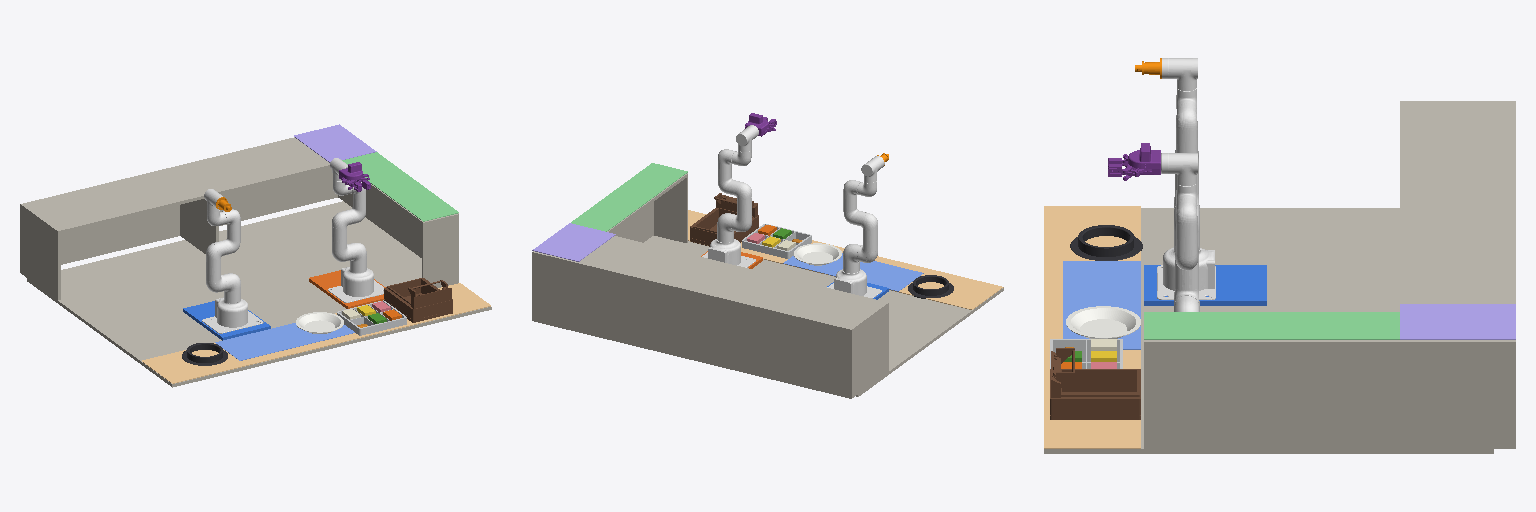
The robot description file, URDF, robot "kitchen_table":
<robot name="kitchen_table">
  <link name="world" />

  
  <link name="robot1_mount" />
  <joint name="robot1_mount_joint" type="fixed"><parent link="world" /><child link="robot1_mount" /><origin xyz="0.773 0.265 0.01" rpy="0 0 -1.5708" /></joint>
  
  <link name="robot2_mount" tool="none" />
  <joint name="robot2_mount_joint" type="fixed"><parent link="world" /><child link="robot2_mount" /><origin xyz="0.354 0.265 0.01" rpy="0 0 -1.5708" /></joint>

  
  <link name="pedestal_a"><visual><geometry><box size="0.23 0.16 0.01" /></geometry><material name="pedestal_a"><color rgba="0.3 0.55 0.95 1" /></material></visual><collision><geometry><box size="0.23 0.16 0.01" /></geometry></collision></link>
  <joint name="pedestal_a_joint" type="fixed"><parent link="robot2_mount" /><child link="pedestal_a" /><origin xyz="-0.035 0 -0.005" rpy="0 0 0" /></joint>
  <link name="pedestal_b"><visual><geometry><box size="0.23 0.16 0.01" /></geometry><material name="pedestal_b"><color rgba="0.95 0.5 0.2 1" /></material></visual><collision><geometry><box size="0.23 0.16 0.01" /></geometry></collision></link>
  <joint name="pedestal_b_joint" type="fixed"><parent link="robot1_mount" /><child link="pedestal_b" /><origin xyz="-0.035 0 -0.005" rpy="0 0 0" /></joint>

  <link name="table"><visual><geometry><box size="1.063 0.837 0.01" /></geometry><material name="table"><color rgba="0.8 0.78 0.74 1" /></material></visual><collision><geometry><box size="1.063 0.837 0.01" /></geometry></collision></link>
  <joint name="table_joint" type="fixed"><parent link="world" /><child link="table" /><origin xyz="0.5315 0.4185 -0.005" rpy="0 0 0" /></joint>
  <link name="shelf"><visual><geometry><box size="1.063 0.215 0.01" /></geometry><material name="shelf"><color rgba="0.8 0.78 0.74 1" /></material></visual><collision><geometry><box size="1.063 0.215 0.01" /></geometry></collision></link>
  <joint name="shelf_joint" type="fixed"><parent link="world" /><child link="shelf" /><origin xyz="0.5315 0.7695 0.215" rpy="0 0 0" /></joint>
  <link name="shelf_side_l"><visual><geometry><box size="0.01 0.215 0.21" /></geometry><material name="shelf_side_l"><color rgba="0.8 0.78 0.74 1" /></material></visual><collision><geometry><box size="0.01 0.215 0.21" /></geometry></collision></link>
  <joint name="shelf_side_l_joint" type="fixed"><parent link="world" /><child link="shelf_side_l" /><origin xyz="0.005 0.7695 0.105" rpy="0 0 0" /></joint>
  <link name="shelf_side_r"><visual><geometry><box size="0.01 0.215 0.21" /></geometry><material name="shelf_side_r"><color rgba="0.8 0.78 0.74 1" /></material></visual><collision><geometry><box size="0.01 0.215 0.21" /></geometry></collision></link>
  <joint name="shelf_side_r_joint" type="fixed"><parent link="world" /><child link="shelf_side_r" /><origin xyz="1.058 0.7695 0.105" rpy="0 0 0" /></joint>
  <link name="shelf_mid"><visual><geometry><box size="0.01 0.205 0.21" /></geometry><material name="shelf_mid"><color rgba="0.8 0.78 0.74 1" /></material></visual><collision><geometry><box size="0.01 0.205 0.21" /></geometry></collision></link>
  <joint name="shelf_mid_joint" type="fixed"><parent link="world" /><child link="shelf_mid" /><origin xyz="0.5315 0.7645 0.105" rpy="0 0 0" /></joint>
  <link name="shelf_back"><visual><geometry><box size="1.043 0.01 0.21" /></geometry><material name="shelf_back"><color rgba="0.8 0.78 0.74 1" /></material></visual><collision><geometry><box size="1.043 0.01 0.21" /></geometry></collision></link>
  <joint name="shelf_back_joint" type="fixed"><parent link="world" /><child link="shelf_back" /><origin xyz="0.5315 0.872 0.105" rpy="0 0 0" /></joint>
  <link name="dryer_top"><visual><geometry><box size="0.12 0.477 0.01" /></geometry><material name="dryer_top"><color rgba="0.8 0.78 0.74 1" /></material></visual><collision><geometry><box size="0.12 0.477 0.01" /></geometry></collision></link>
  <joint name="dryer_top_joint" type="fixed"><parent link="world" /><child link="dryer_top" /><origin xyz="1.003 0.4235 0.215" rpy="0 0 0" /></joint>
  <link name="dryer_side"><visual><geometry><box size="0.01 0.477 0.21" /></geometry><material name="dryer_side"><color rgba="0.8 0.78 0.74 1" /></material></visual><collision><geometry><box size="0.01 0.477 0.21" /></geometry></collision></link>
  <joint name="dryer_side_joint" type="fixed"><parent link="world" /><child link="dryer_side" /><origin xyz="1.058 0.4235 0.105" rpy="0 0 0" /></joint>
  <link name="dryer_front"><visual><geometry><box size="0.11 0.01 0.21" /></geometry><material name="dryer_front"><color rgba="0.8 0.78 0.74 1" /></material></visual><collision><geometry><box size="0.11 0.01 0.21" /></geometry></collision></link>
  <joint name="dryer_front_joint" type="fixed"><parent link="world" /><child link="dryer_front" /><origin xyz="0.998 0.19 0.105" rpy="0 0 0" /></joint>
  <link name="basket"><visual><geometry><mesh filename="meshes/frying_basket_hook.stl" scale="0.001 0.001 0.001" /></geometry><material name="basket"><color rgba="0.55 0.57 0.6 1" /></material></visual><collision><geometry><mesh filename="meshes/frying_basket_hook.stl" scale="0.001 0.001 0.001" /></geometry></collision></link>
  <joint name="basket_joint" type="fixed"><parent link="world" /><child link="basket" /><origin xyz="0.875 0.1065 0.0535" rpy="0 0 -1.5708" /></joint>
  <link name="prep"><visual><geometry><mesh filename="meshes/prep_bins_v2.stl" scale="0.001 0.001 0.001" /></geometry><material name="prep"><color rgba="0.86 0.87 0.88 1" /></material></visual><collision><geometry><mesh filename="meshes/prep_bins_v2.stl" scale="0.001 0.001 0.001" /></geometry></collision></link>
  <joint name="prep_joint" type="fixed"><parent link="world" /><child link="prep" /><origin xyz="0.71 0.0785 0" rpy="0 0 0" /></joint>
  <link name="ing_chicken"><visual><geometry><mesh filename="meshes/chicken_nugget_v2.stl" scale="0.001 0.001 0.001" /></geometry><material name="ing_chicken"><color rgba="0.85 0.55 0.2 1" /></material></visual><collision><geometry><mesh filename="meshes/chicken_nugget_v2.stl" scale="0.001 0.001 0.001" /></geometry></collision></link>
  <joint name="ing_chicken_joint" type="fixed"><parent link="prep" /><child link="ing_chicken" /><origin xyz="-0.05033 -0.032 0.0025" rpy="0 0 0" /></joint>
  <link name="ing_green"><visual><geometry><box size="0.034 0.048 0.027" /></geometry><material name="ing_green"><color rgba="0.35 0.65 0.25 1" /></material></visual><collision><geometry><box size="0.034 0.048 0.027" /></geometry></collision></link>
  <joint name="ing_green_joint" type="fixed"><parent link="prep" /><child link="ing_green" /><origin xyz="0 -0.032 0.016" rpy="0 0 0" /></joint>
  <link name="ing_carrot"><visual><geometry><box size="0.034 0.048 0.027" /></geometry><material name="ing_carrot"><color rgba="0.95 0.5 0.15 1" /></material></visual><collision><geometry><box size="0.034 0.048 0.027" /></geometry></collision></link>
  <joint name="ing_carrot_joint" type="fixed"><parent link="prep" /><child link="ing_carrot" /><origin xyz="0.05033 -0.032 0.016" rpy="0 0 0" /></joint>
  <link name="ing_onion"><visual><geometry><box size="0.034 0.048 0.027" /></geometry><material name="ing_onion"><color rgba="0.96 0.94 0.85 1" /></material></visual><collision><geometry><box size="0.034 0.048 0.027" /></geometry></collision></link>
  <joint name="ing_onion_joint" type="fixed"><parent link="prep" /><child link="ing_onion" /><origin xyz="-0.05033 0.032 0.016" rpy="0 0 0" /></joint>
  <link name="ing_egg"><visual><geometry><box size="0.034 0.048 0.027" /></geometry><material name="ing_egg"><color rgba="0.98 0.85 0.25 1" /></material></visual><collision><geometry><box size="0.034 0.048 0.027" /></geometry></collision></link>
  <joint name="ing_egg_joint" type="fixed"><parent link="prep" /><child link="ing_egg" /><origin xyz="0 0.032 0.016" rpy="0 0 0" /></joint>
  <link name="ing_ham"><visual><geometry><box size="0.034 0.048 0.027" /></geometry><material name="ing_ham"><color rgba="0.92 0.55 0.6 1" /></material></visual><collision><geometry><box size="0.034 0.048 0.027" /></geometry></collision></link>
  <joint name="ing_ham_joint" type="fixed"><parent link="prep" /><child link="ing_ham" /><origin xyz="0.05033 0.032 0.016" rpy="0 0 0" /></joint>
  <link name="fryer"><visual><geometry><mesh filename="meshes/fryer_v4.stl" scale="0.001 0.001 0.001" /></geometry><material name="fryer"><color rgba="0.48 0.35 0.27 1" /></material></visual><collision><geometry><mesh filename="meshes/fryer_v4.stl" scale="0.001 0.001 0.001" /></geometry></collision></link>
  <joint name="fryer_joint" type="fixed"><parent link="world" /><child link="fryer" /><origin xyz="0.875 0.095 0" rpy="0 0 0" /></joint>
  <link name="burner"><visual><geometry><mesh filename="meshes/burner_wok_ring_id88.stl" scale="0.001 0.001 0.001" /></geometry><material name="burner"><color rgba="0.25 0.25 0.27 1" /></material></visual><collision><geometry><mesh filename="meshes/burner_wok_ring_id88.stl" scale="0.001 0.001 0.001" /></geometry></collision></link>
  <joint name="burner_joint" type="fixed"><parent link="world" /><child link="burner" /><origin xyz="0.175 0.115 0" rpy="0 0 0" /></joint>
  <link name="zone_cooking"><visual><geometry><box size="1.063 0.18 0.002" /></geometry><material name="zone_cooking"><color rgba="1 0.85 0.65 0.45" /></material></visual><collision><geometry><box size="1.063 0.18 0.002" /></geometry></collision></link>
  <joint name="zone_cooking_joint" type="fixed"><parent link="world" /><child link="zone_cooking" /><origin xyz="0.5315 0.09 0.002" rpy="0 0 0" /></joint>
  <link name="zone_plates_ingredients"><visual><geometry><box size="0.386 0.145 0.002" /></geometry><material name="zone_plates_ingredients"><color rgba="0.55 0.7 1 0.7" /></material></visual><collision><geometry><box size="0.386 0.157 0.002" /></geometry></collision></link>
  <joint name="zone_plates_ingredients_joint" type="fixed"><parent link="world" /><child link="zone_plates_ingredients" /><origin xyz="0.438 0.1075 0.003" rpy="0 0 0" /></joint>
  <link name="zone_drying"><visual><geometry><box size="0.12 0.477 0.002" /></geometry><material name="zone_drying"><color rgba="0.6 0.9 0.65 0.7" /></material></visual><collision><geometry><box size="0.12 0.477 0.002" /></geometry></collision></link>
  <joint name="zone_drying_joint" type="fixed"><parent link="world" /><child link="zone_drying" /><origin xyz="1.003 0.4235 0.224" rpy="0 0 0" /></joint>
  <link name="zone_dish_return"><visual><geometry><box size="0.154 0.215 0.002" /></geometry><material name="zone_dish_return"><color rgba="0.75 0.7 1 0.8" /></material></visual><collision><geometry><box size="0.154 0.215 0.002" /></geometry></collision></link>
  <joint name="zone_dish_return_joint" type="fixed"><parent link="world" /><child link="zone_dish_return" /><origin xyz="0.986 0.7695 0.225" rpy="0 0 0" /></joint>
  <link name="plate"><visual><geometry><mesh filename="meshes/chicken_plate.stl" scale="0.001 0.001 0.001" /></geometry><material name="plate"><color rgba="0.97 0.97 0.95 1" /></material></visual><collision><geometry><mesh filename="meshes/chicken_plate.stl" scale="0.001 0.001 0.001" /></geometry></collision></link>
  <joint name="plate_joint" type="fixed"><parent link="world" /><child link="plate" /><origin xyz="0.555 0.11 0.004" rpy="0 0 0" /></joint>
  <link name="wok"><visual><geometry><mesh filename="meshes/wok_round_d32_ringfix.stl" scale="0.001 0.001 0.001" /></geometry><material name="wok"><color rgba="0.3 0.45 0.65 1" /></material></visual></link>
  <joint name="wok_joint" type="fixed"><parent link="robot2_joint6_flange" /><child link="wok" /><origin xyz="-0.082 0 0.069" rpy="3.14159265 0 0" /></joint>
  <link name="robot2_wok_tool"><visual><geometry><mesh filename="meshes/robot2_wrist_plug_tool_use.stl" scale="0.001 0.001 0.001" /></geometry><material name="wok_tool"><color rgba="1 0.6 0.1 1" /></material></visual></link>
  <joint name="robot2_wok_tool_joint" type="fixed"><parent link="robot2_joint6_flange" /><child link="robot2_wok_tool" /></joint>
<link name="robot1_g_base"><visual><origin xyz="0.000000 0.000000 0.000000" rpy="0.000000 -0.000000 0.000000" /><geometry><mesh filename="meshes/link_g_base.stl" /></geometry><material name="robot1_robot"><color rgba="0.930 0.930 0.930 1.000" /></material></visual></link><link name="robot1_joint1"><visual><origin xyz="0.000000 0.000000 0.000000" rpy="0.000000 -0.000000 0.000000" /><geometry><mesh filename="meshes/link_joint1.stl" /></geometry><material name="robot1_robot"><color rgba="0.930 0.930 0.930 1.000" /></material></visual></link><link name="robot1_joint2"><visual><origin xyz="0.000000 0.000000 0.000000" rpy="0.000000 -0.000000 0.000000" /><geometry><mesh filename="meshes/link_joint2.stl" /></geometry><material name="robot1_robot"><color rgba="0.930 0.930 0.930 1.000" /></material></visual></link><link name="robot1_joint3"><visual><origin xyz="0.000000 0.000000 0.000000" rpy="0.000000 -0.000000 0.000000" /><geometry><mesh filename="meshes/link_joint3.stl" /></geometry><material name="robot1_robot"><color rgba="0.930 0.930 0.930 1.000" /></material></visual></link><link name="robot1_joint4"><visual><origin xyz="0.000000 0.000000 0.000000" rpy="0.000000 -0.000000 0.000000" /><geometry><mesh filename="meshes/link_joint4.stl" /></geometry><material name="robot1_robot"><color rgba="0.930 0.930 0.930 1.000" /></material></visual></link><link name="robot1_joint5"><visual><origin xyz="0.000000 0.000000 0.000000" rpy="0.000000 -0.000000 0.000000" /><geometry><mesh filename="meshes/link_joint5.stl" /></geometry><material name="robot1_robot"><color rgba="0.930 0.930 0.930 1.000" /></material></visual></link><link name="robot1_joint6"><visual><origin xyz="0.000000 0.000000 0.000000" rpy="0.000000 -0.000000 0.000000" /><geometry><mesh filename="meshes/link_joint6.stl" /></geometry><material name="robot1_robot"><color rgba="0.930 0.930 0.930 1.000" /></material></visual></link><link name="robot1_joint6_flange"><visual><origin xyz="0.000000 0.000000 0.000000" rpy="0.000000 -0.000000 0.000000" /><geometry><mesh filename="meshes/link_joint6_flange.stl" /></geometry><material name="robot1_robot"><color rgba="0.930 0.930 0.930 1.000" /></material></visual></link><link name="robot1_gripper"><visual><origin xyz="0.000000 0.000000 0.000000" rpy="0.000000 -0.000000 0.000000" /><geometry><mesh filename="meshes/gripper_closed.stl" /></geometry><material name="robot1_gripper"><color rgba="0.550 0.300 0.650 1.000" /></material></visual></link><joint name="robot1_g_base_to_joint1" type="fixed"><parent link="robot1_g_base" /><child link="robot1_joint1" /><origin xyz="0 0 0" rpy="0 0 0" /><axis xyz="0 0 0" /><limit lower="-3.14" upper="3.14159" effort="1000.0" velocity="0" /></joint><joint name="robot1_joint2_to_joint1" type="revolute"><parent link="robot1_joint1" /><child link="robot1_joint2" /><origin xyz="0 0 0.13156" rpy="0 0 0" /><axis xyz="0 0 1" /><limit lower="-2.9321" upper="2.9321" effort="1000.0" velocity="0" /></joint><joint name="robot1_joint3_to_joint2" type="revolute"><parent link="robot1_joint2" /><child link="robot1_joint3" /><origin xyz="0 0  0" rpy="0 1.5708 -1.5708" /><axis xyz="0 0 1" /><limit lower="-2.4434" upper="2.4434" effort="1000.0" velocity="0" /></joint><joint name="robot1_joint4_to_joint3" type="revolute"><parent link="robot1_joint3" /><child link="robot1_joint4" /><origin xyz="  -0.1104 0 0   " rpy="0 0 0" /><axis xyz=" 0 0 1" /><limit lower="-2.6179" upper="2.6179" effort="1000.0" velocity="0" /></joint><joint name="robot1_joint5_to_joint4" type="revolute"><parent link="robot1_joint4" /><child link="robot1_joint5" /><origin xyz="-0.096 0 0.06462" rpy="0 0 -1.5708" /><axis xyz=" 0 0 1" /><limit lower="-2.6179" upper="2.6179" effort="1000.0" velocity="0" /></joint><joint name="robot1_joint6_to_joint5" type="revolute"><parent link="robot1_joint5" /><child link="robot1_joint6" /><origin xyz="0 -0.07318 0" rpy="1.5708 -1.5708 0" /><axis xyz="0 0 1" /><limit lower="-2.7052" upper="2.7925" effort="1000.0" velocity="0" /></joint><joint name="robot1_joint6output_to_joint6" type="revolute"><parent link="robot1_joint6" /><child link="robot1_joint6_flange" /><origin xyz="0 0.0456 0" rpy="-1.5708 0 0" /><axis xyz="0 0 1" /><limit lower="-3.14159" upper="3.14159" effort="1000.0" velocity="0" /></joint><joint name="robot1_flange_to_gripper" type="fixed"><parent link="robot1_joint6_flange" /><child link="robot1_gripper" /><origin xyz="0.000000 0.000000 0.000000" rpy="0.000000 -0.000000 0.000000" /></joint><joint name="robot1_mount_to_base" type="fixed"><parent link="robot1_mount" /><child link="robot1_g_base" /></joint><link name="robot2_g_base"><visual><origin xyz="0.000000 0.000000 0.000000" rpy="0.000000 -0.000000 0.000000" /><geometry><mesh filename="meshes/link_g_base.stl" /></geometry><material name="robot2_robot"><color rgba="0.930 0.930 0.930 1.000" /></material></visual></link><link name="robot2_joint1"><visual><origin xyz="0.000000 0.000000 0.000000" rpy="0.000000 -0.000000 0.000000" /><geometry><mesh filename="meshes/link_joint1.stl" /></geometry><material name="robot2_robot"><color rgba="0.930 0.930 0.930 1.000" /></material></visual></link><link name="robot2_joint2"><visual><origin xyz="0.000000 0.000000 0.000000" rpy="0.000000 -0.000000 0.000000" /><geometry><mesh filename="meshes/link_joint2.stl" /></geometry><material name="robot2_robot"><color rgba="0.930 0.930 0.930 1.000" /></material></visual></link><link name="robot2_joint3"><visual><origin xyz="0.000000 0.000000 0.000000" rpy="0.000000 -0.000000 0.000000" /><geometry><mesh filename="meshes/link_joint3.stl" /></geometry><material name="robot2_robot"><color rgba="0.930 0.930 0.930 1.000" /></material></visual></link><link name="robot2_joint4"><visual><origin xyz="0.000000 0.000000 0.000000" rpy="0.000000 -0.000000 0.000000" /><geometry><mesh filename="meshes/link_joint4.stl" /></geometry><material name="robot2_robot"><color rgba="0.930 0.930 0.930 1.000" /></material></visual></link><link name="robot2_joint5"><visual><origin xyz="0.000000 0.000000 0.000000" rpy="0.000000 -0.000000 0.000000" /><geometry><mesh filename="meshes/link_joint5.stl" /></geometry><material name="robot2_robot"><color rgba="0.930 0.930 0.930 1.000" /></material></visual></link><link name="robot2_joint6"><visual><origin xyz="0.000000 0.000000 0.000000" rpy="0.000000 -0.000000 0.000000" /><geometry><mesh filename="meshes/link_joint6.stl" /></geometry><material name="robot2_robot"><color rgba="0.930 0.930 0.930 1.000" /></material></visual></link><link name="robot2_joint6_flange"><visual><origin xyz="0.000000 0.000000 0.000000" rpy="0.000000 -0.000000 0.000000" /><geometry><mesh filename="meshes/link_joint6_flange.stl" /></geometry><material name="robot2_robot"><color rgba="0.930 0.930 0.930 1.000" /></material></visual></link><joint name="robot2_g_base_to_joint1" type="fixed"><parent link="robot2_g_base" /><child link="robot2_joint1" /><origin xyz="0 0 0" rpy="0 0 0" /><axis xyz="0 0 0" /><limit lower="-3.14" upper="3.14159" effort="1000.0" velocity="0" /></joint><joint name="robot2_joint2_to_joint1" type="revolute"><parent link="robot2_joint1" /><child link="robot2_joint2" /><origin xyz="0 0 0.13156" rpy="0 0 0" /><axis xyz="0 0 1" /><limit lower="-2.9321" upper="2.9321" effort="1000.0" velocity="0" /></joint><joint name="robot2_joint3_to_joint2" type="revolute"><parent link="robot2_joint2" /><child link="robot2_joint3" /><origin xyz="0 0  0" rpy="0 1.5708 -1.5708" /><axis xyz="0 0 1" /><limit lower="-2.4434" upper="2.4434" effort="1000.0" velocity="0" /></joint><joint name="robot2_joint4_to_joint3" type="revolute"><parent link="robot2_joint3" /><child link="robot2_joint4" /><origin xyz="  -0.1104 0 0   " rpy="0 0 0" /><axis xyz=" 0 0 1" /><limit lower="-2.6179" upper="2.6179" effort="1000.0" velocity="0" /></joint><joint name="robot2_joint5_to_joint4" type="revolute"><parent link="robot2_joint4" /><child link="robot2_joint5" /><origin xyz="-0.096 0 0.06462" rpy="0 0 -1.5708" /><axis xyz=" 0 0 1" /><limit lower="-2.6179" upper="2.6179" effort="1000.0" velocity="0" /></joint><joint name="robot2_joint6_to_joint5" type="revolute"><parent link="robot2_joint5" /><child link="robot2_joint6" /><origin xyz="0 -0.07318 0" rpy="1.5708 -1.5708 0" /><axis xyz="0 0 1" /><limit lower="-2.7052" upper="2.7925" effort="1000.0" velocity="0" /></joint><joint name="robot2_joint6output_to_joint6" type="revolute"><parent link="robot2_joint6" /><child link="robot2_joint6_flange" /><origin xyz="0 0.0456 0" rpy="-1.5708 0 0" /><axis xyz="0 0 1" /><limit lower="-3.14159" upper="3.14159" effort="1000.0" velocity="0" /></joint><joint name="robot2_mount_to_base" type="fixed"><parent link="robot2_mount" /><child link="robot2_g_base" /></joint></robot>

--- Facts derived from the render (not from the file) ---
The picture shows the robot from 3 angles, left to right: view 1: azimuth 30°, elevation 25°; view 2: azimuth 150°, elevation 25°; view 3: azimuth 270°, elevation 25°; orthographic projection.
Robot: kitchen_table — 48 links, 47 joints (12 revolute, 35 fixed); root link world; default pose: all joints at 0.
Visible links, largest first — view 1: table, shelf, shelf_back, zone_cooking, zone_drying, shelf_side_l, zone_plates_ingredients, fryer, dryer_front, dryer_side, zone_dish_return, shelf_mid (+11 smaller); view 2: shelf_back, shelf, table, zone_drying, shelf_side_l, zone_cooking, zone_dish_return, dryer_front, zone_plates_ingredients, fryer, dryer_side, robot2_joint3 (+8 smaller); view 3: dryer_side, shelf, table, shelf_side_r, zone_cooking, zone_drying, fryer, zone_plates_ingredients, zone_dish_return, pedestal_a, plate, dryer_top (+10 smaller).
Boxes of the visible links, x1=… form: table: x1=27, y1=201, x2=491, y2=387; shelf: x1=20, y1=137, x2=329, y2=233; shelf_back: x1=61, y1=168, x2=337, y2=264; zone_cooking: x1=142, y1=283, x2=490, y2=383; zone_drying: x1=342, y1=152, x2=458, y2=221; shelf_side_l: x1=20, y1=207, x2=60, y2=299; zone_plates_ingredients: x1=215, y1=323, x2=354, y2=360; fryer: x1=384, y1=278, x2=452, y2=322; dryer_front: x1=422, y1=218, x2=455, y2=287; dryer_side: x1=374, y1=190, x2=458, y2=283; zone_dish_return: x1=294, y1=124, x2=376, y2=162; shelf_mid: x1=180, y1=199, x2=218, y2=253; shelf_back: x1=535, y1=256, x2=848, y2=397; shelf: x1=532, y1=236, x2=888, y2=332; table: x1=644, y1=236, x2=1003, y2=396; zone_drying: x1=571, y1=163, x2=687, y2=231; shelf_side_l: x1=849, y1=306, x2=888, y2=398; zone_cooking: x1=688, y1=210, x2=1003, y2=309; zone_dish_return: x1=532, y1=223, x2=615, y2=261; dryer_front: x1=654, y1=177, x2=687, y2=242; zone_plates_ingredients: x1=783, y1=253, x2=923, y2=291; fryer: x1=690, y1=193, x2=758, y2=246; dryer_side: x1=612, y1=202, x2=653, y2=242; robot2_joint3: x1=857, y1=211, x2=877, y2=262; dryer_side: x1=1144, y1=347, x2=1399, y2=448; shelf: x1=1400, y1=101, x2=1515, y2=346; table: x1=1044, y1=208, x2=1493, y2=453; shelf_side_r: x1=1400, y1=347, x2=1515, y2=448; zone_cooking: x1=1044, y1=206, x2=1140, y2=448; zone_drying: x1=1144, y1=312, x2=1399, y2=339; fryer: x1=1050, y1=348, x2=1140, y2=419; zone_plates_ingredients: x1=1063, y1=261, x2=1140, y2=349; zone_dish_return: x1=1400, y1=304, x2=1515, y2=339; pedestal_a: x1=1144, y1=265, x2=1266, y2=305; plate: x1=1066, y1=306, x2=1140, y2=338; dryer_top: x1=1144, y1=340, x2=1399, y2=346.
Size in the robot's own frame: 1.06 by 0.877 by 0.4789 metres.
Meshes: 17 distinct files referenced, 23 mesh visuals loaded (9 binary STL, 6 ASCII STL); not drawn: 2 (reference not matched to a file when rendering).
